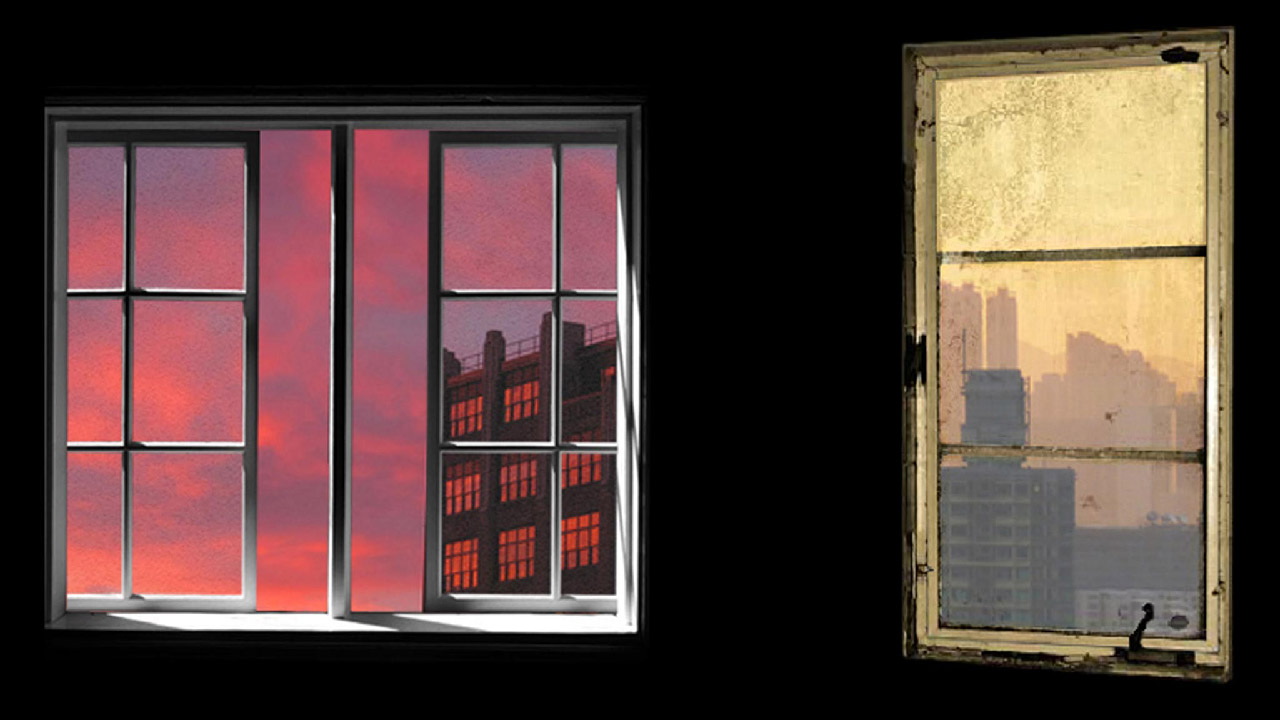Window: (44, 99, 644, 624), (916, 46, 1228, 647)
